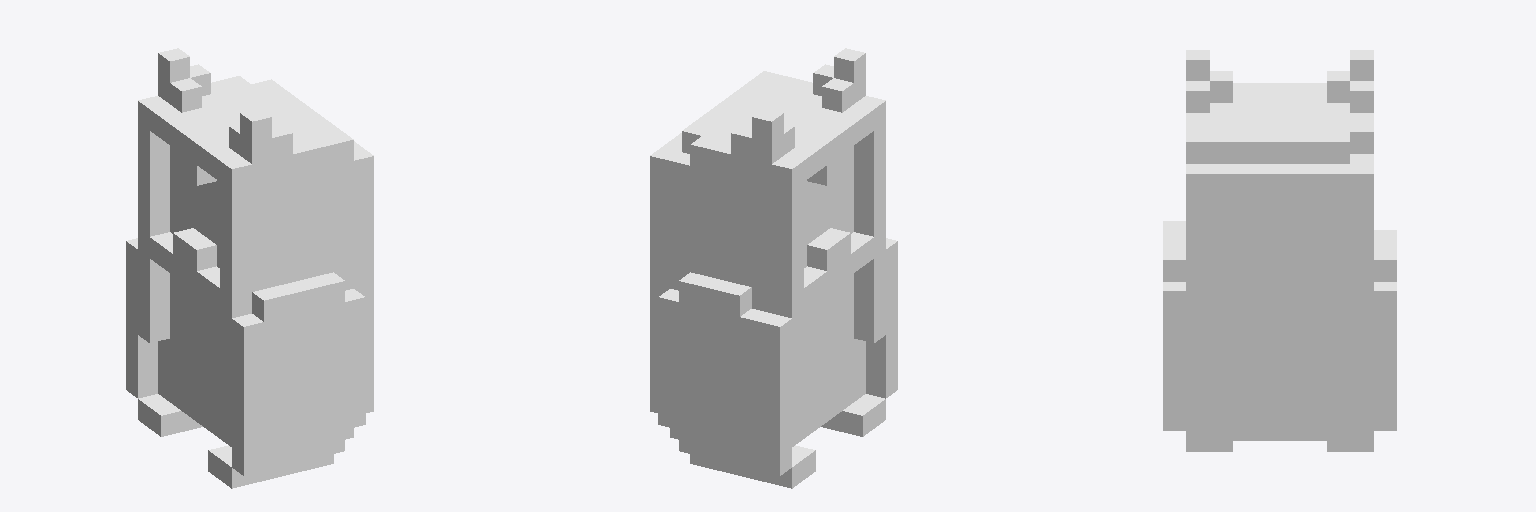
File: owl.obj
3 views of the same model, side by side, from view 1: azimuth 30°, elevation 25°; view 2: azimuth 150°, elevation 25°; view 3: azimuth 270°, elevation 25° (orthographic).
Parts seen in each view (by area): view 1: object 1; view 2: object 1; view 3: object 1.
Part boxes in pixels (bbox=[...]): object 1: bbox=[126, 48, 373, 488]; object 1: bbox=[650, 48, 897, 488]; object 1: bbox=[1163, 50, 1396, 451].
Bounding box in the file's own units: 0.7 × 1.7 × 1.